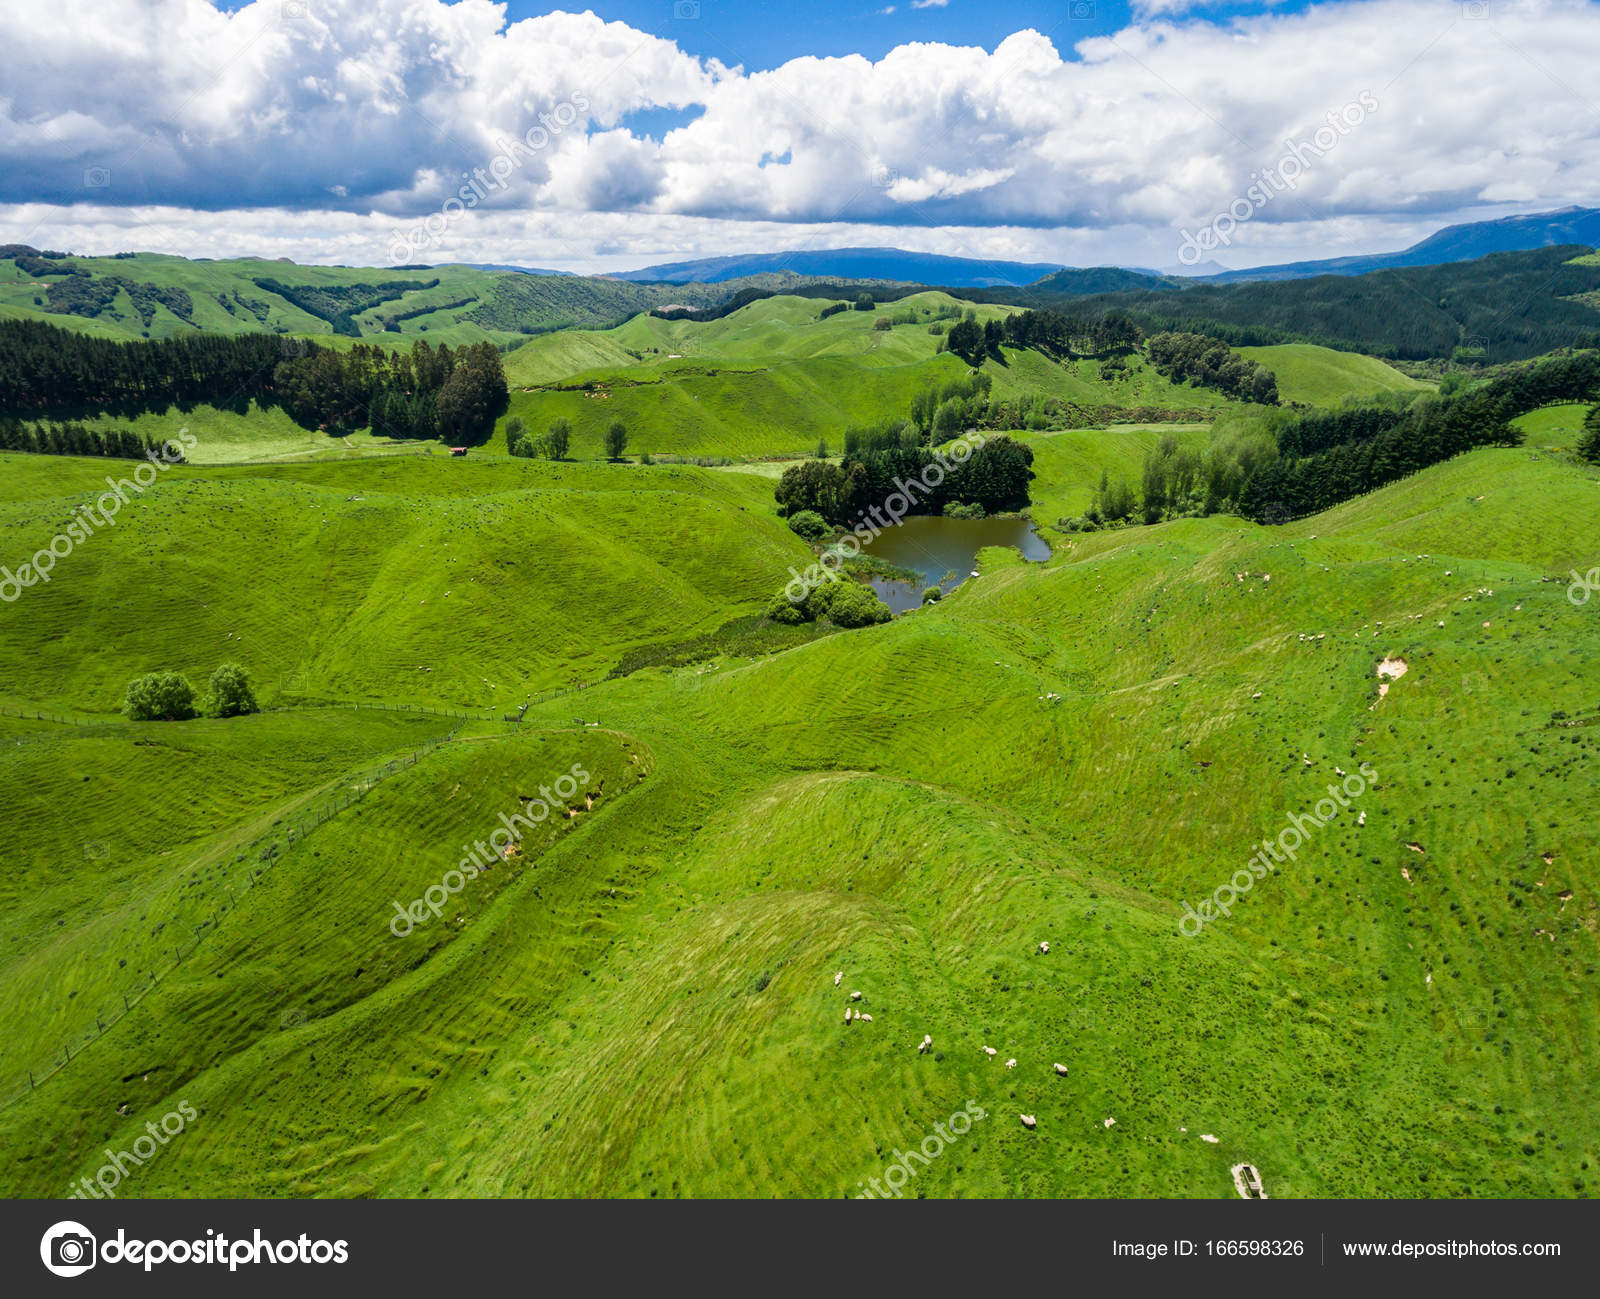sheep: (1019, 1113, 1035, 1127), (1053, 1062, 1068, 1075), (984, 1045, 997, 1056), (848, 990, 862, 1001), (923, 1034, 932, 1045), (844, 1006, 851, 1021), (919, 1041, 927, 1051)
